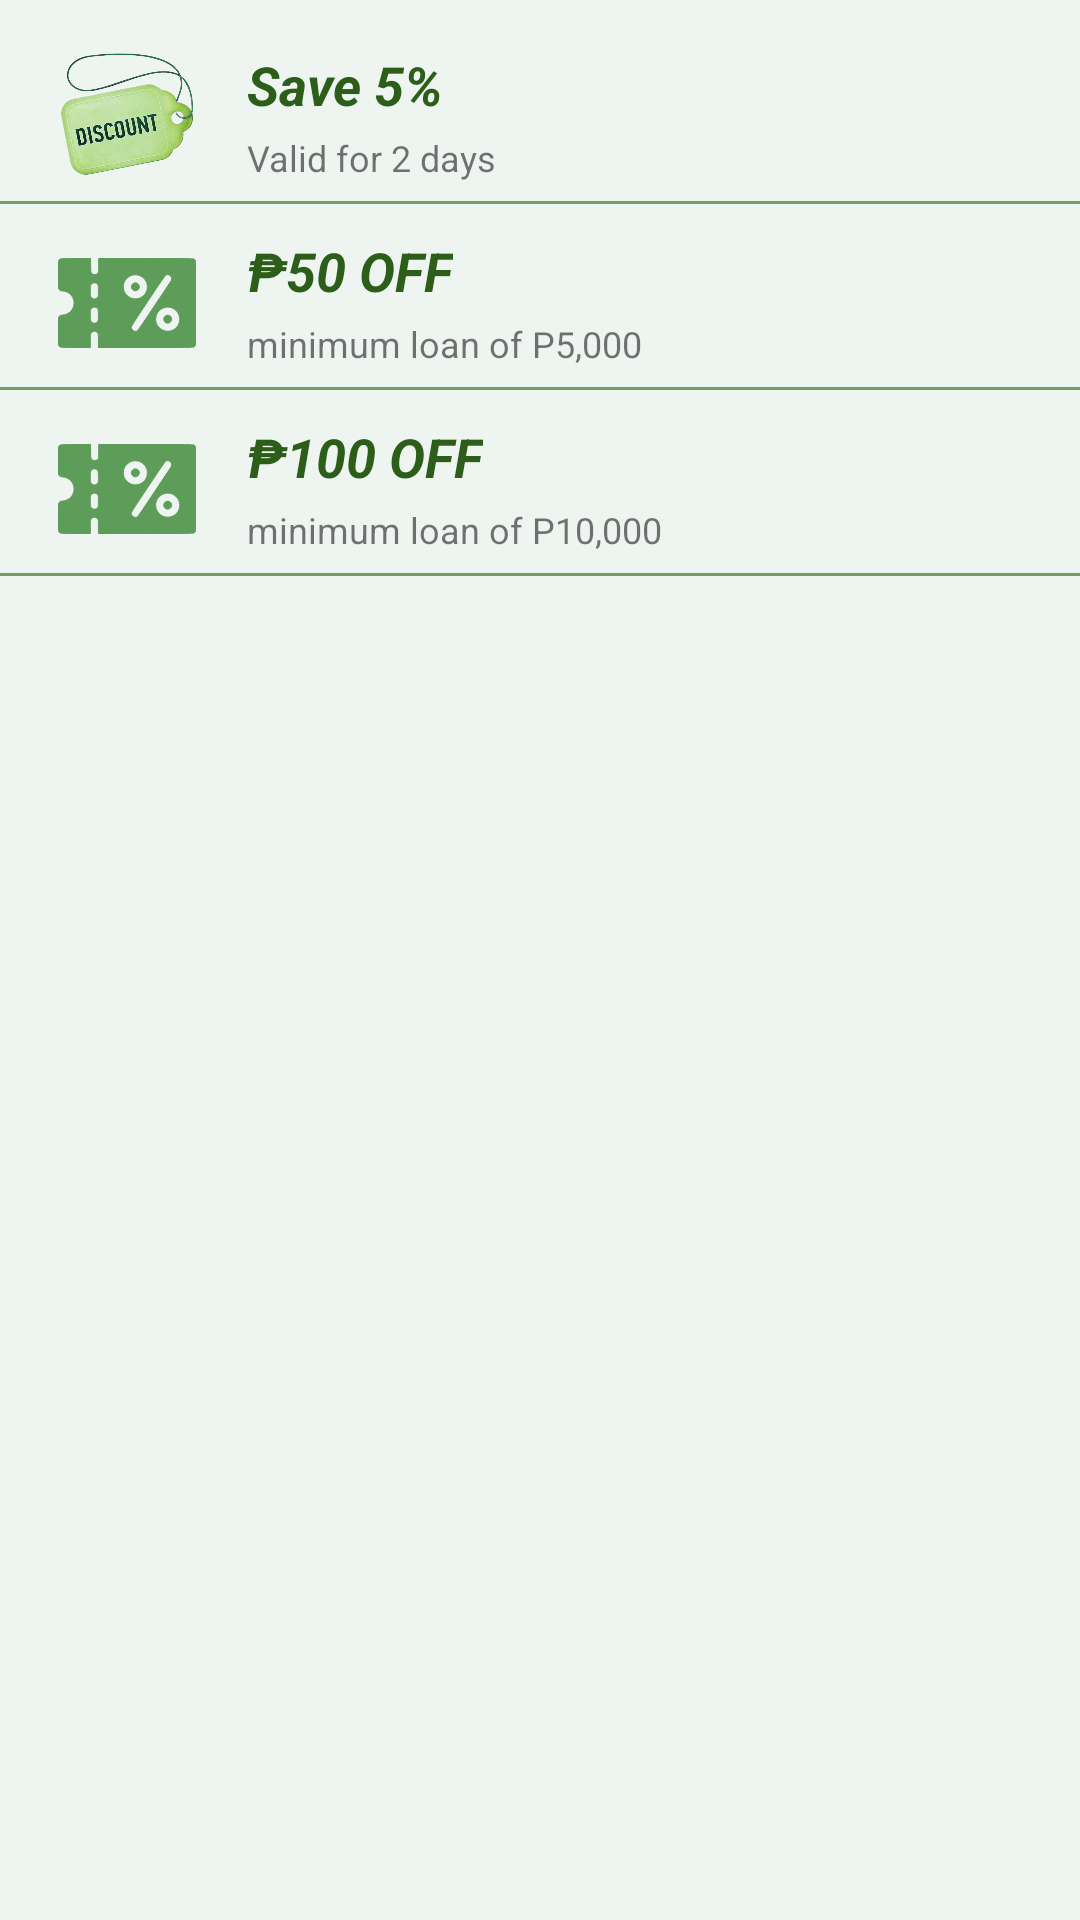

Named icons in this screenshot (1080x1920) and their bounding boxes, Rect(x1, y1, x2, y2):
coupon: Rect(58, 258, 196, 348), Rect(58, 444, 196, 534)
